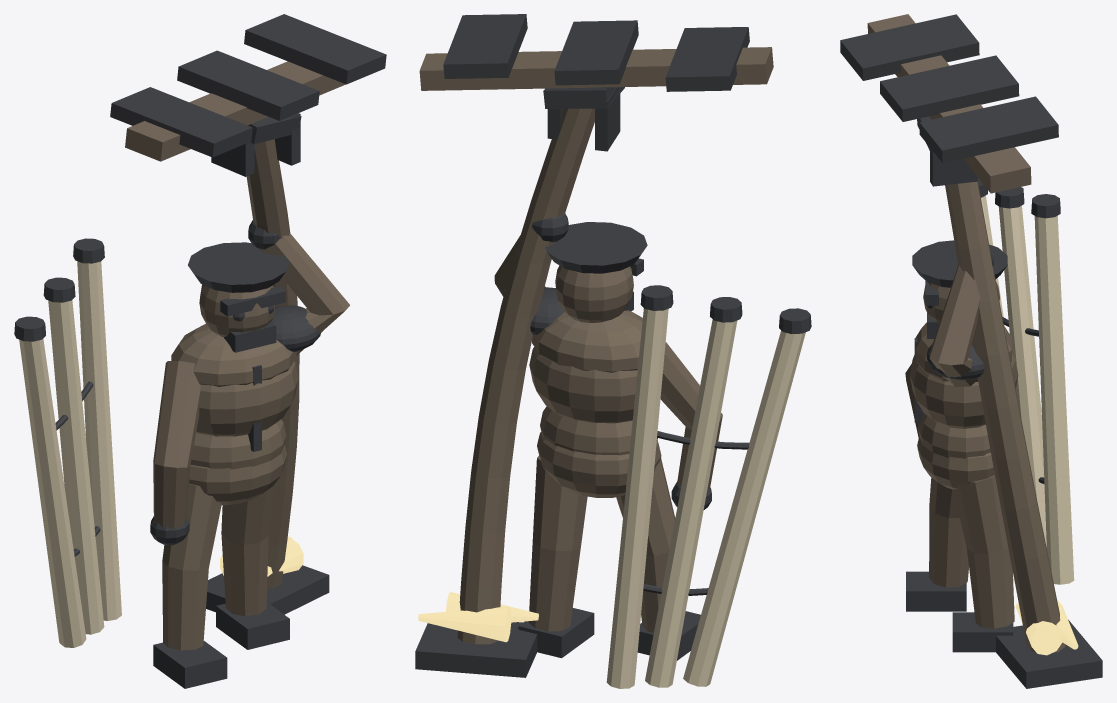
The model's file is timberman.glb.
3 renders of one model, left to right at view 1: azimuth 30°, elevation 25°; view 2: azimuth 150°, elevation 25°; view 3: azimuth 270°, elevation 25°, orthographic. The views are drawn at different scales.
Visible parts, largest first — view 1: timberman_body, timberman_dark, timberman_bone, timberman_glow; view 2: timberman_body, timberman_dark, timberman_bone, timberman_glow; view 3: timberman_body, timberman_dark, timberman_bone, timberman_glow.
Part boxes in pixels (x1,y1,x2,y2): timberman_body: [125, 61, 349, 650]; timberman_dark: [14, 14, 386, 688]; timberman_bone: [19, 261, 121, 647]; timberman_glow: [220, 536, 303, 576]; timberman_body: [419, 47, 773, 644]; timberman_dark: [415, 14, 811, 677]; timberman_bone: [606, 308, 805, 688]; timberman_glow: [418, 592, 538, 642]; timberman_body: [867, 14, 1065, 652]; timberman_dark: [840, 14, 1102, 688]; timberman_bone: [981, 195, 1074, 584]; timberman_glow: [1016, 599, 1078, 655].
Bounding box in the file's own units: 2.01 × 3.05 × 1.31.
